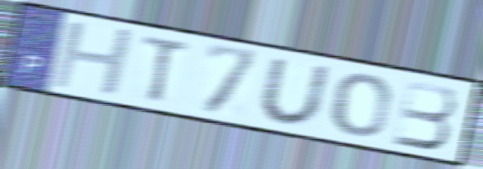7: (204, 39, 264, 119)
B: (390, 78, 459, 152)
H: (48, 19, 138, 98)
O: (330, 71, 393, 138)
T: (139, 33, 194, 104)
U: (257, 56, 333, 129)
